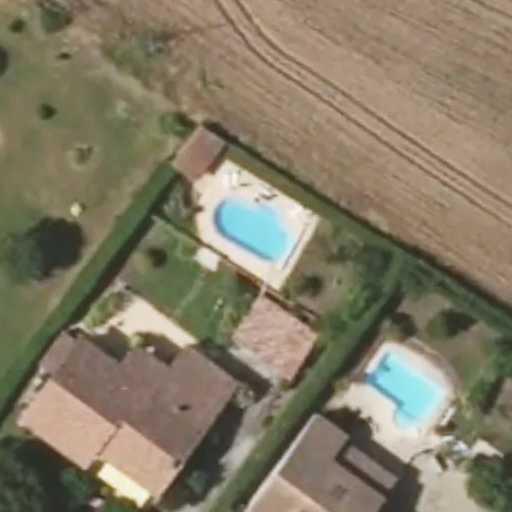pool: (212, 239, 300, 241)
